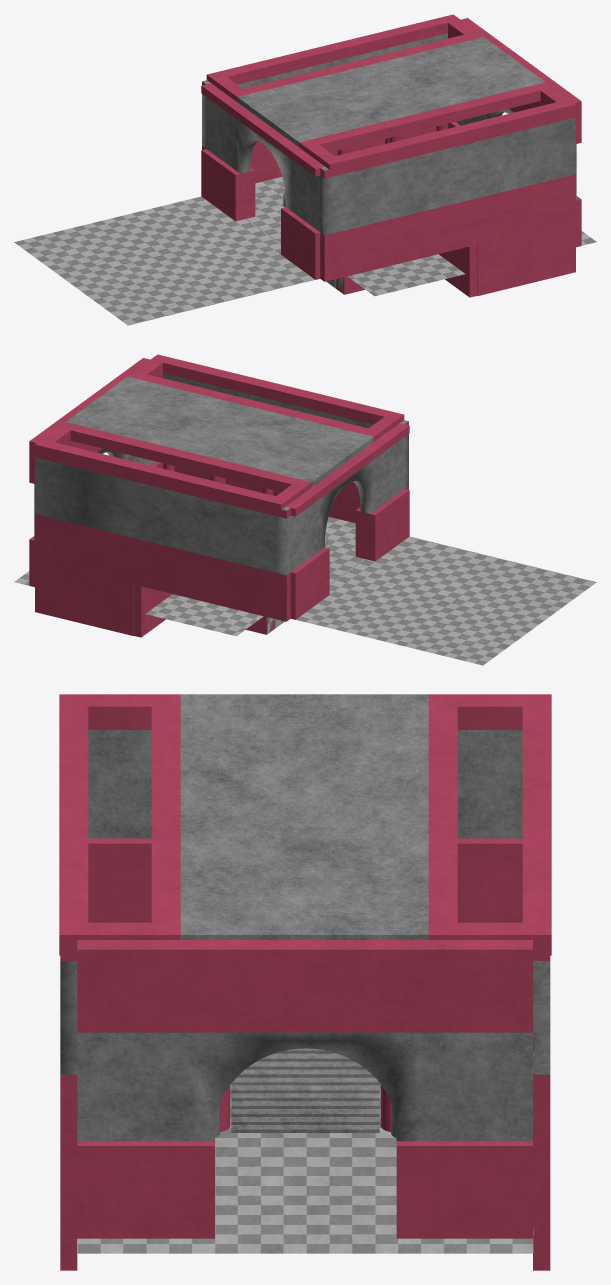
The model's file is concrete_temple.glb.
3 renders of one model, top to bottom at view 1: azimuth 30°, elevation 25°; view 2: azimuth 150°, elevation 25°; view 3: azimuth 270°, elevation 25°, orthographic. The views are drawn at different scales.
Visible parts, largest first — view 1: floor_top_2, redbits_21, concrete_walls.006_7, concrete_walls.002_5, redbits.011_32, redbits.015_36, concrete_walls.001_3, redbits.001_22, redbits.002_23, floor_bottom_1, floor_0, concrete_walls.004_6 (+2 smaller); view 2: floor_top_2, redbits.001_22, concrete_walls.006_7, concrete_walls.004_6, redbits.015_36, redbits.011_32, concrete_walls.001_3, redbits_21, redbits.002_23, floor_bottom_1, floor_0, redbits.003_24 (+2 smaller); view 3: concrete_walls.006_7, redbits.014_35, concrete_walls.019_20, floor_bottom_1, redbits.015_36, redbits.011_32, concrete_walls.001_3, redbits.012_33, redbits.013_34, concrete_stairs_4, redbits.001_22, redbits_21 (+3 smaller).
Boxes of the visible parts, box(x1,y1,x2,y2) form: floor_top_2: box(14, 196, 314, 325); redbits_21: box(281, 174, 575, 296); concrete_walls.006_7: box(237, 37, 545, 147); concrete_walls.002_5: box(320, 117, 575, 235); redbits.011_32: box(299, 82, 576, 174); redbits.015_36: box(206, 14, 483, 101); concrete_walls.001_3: box(206, 97, 320, 231); redbits.001_22: box(201, 123, 447, 221); redbits.002_23: box(201, 33, 575, 178); floor_bottom_1: box(347, 231, 596, 296); floor_0: box(246, 177, 343, 293); concrete_walls.004_6: box(202, 33, 447, 148); floor_top_2: box(296, 536, 596, 665); redbits.001_22: box(35, 514, 329, 635); concrete_walls.006_7: box(66, 376, 373, 486); concrete_walls.004_6: box(35, 457, 290, 575); redbits.015_36: box(34, 422, 311, 514); redbits.011_32: box(127, 354, 404, 441); concrete_walls.001_3: box(290, 437, 404, 571); redbits_21: box(163, 463, 409, 561); redbits.002_23: box(35, 421, 409, 518); floor_bottom_1: box(14, 571, 263, 636); floor_0: box(267, 517, 364, 633); redbits.003_24: box(134, 584, 274, 637); concrete_walls.006_7: box(180, 694, 428, 939); redbits.014_35: box(77, 940, 532, 1032); concrete_walls.019_20: box(77, 1032, 532, 1141); floor_bottom_1: box(77, 1083, 533, 1253); redbits.015_36: box(428, 694, 551, 955); redbits.011_32: box(59, 694, 180, 955); concrete_walls.001_3: box(88, 730, 522, 838); redbits.012_33: box(77, 1141, 214, 1238); redbits.013_34: box(396, 1141, 532, 1238); concrete_stairs_4: box(231, 1048, 379, 1132); redbits.001_22: box(457, 838, 550, 1270); redbits_21: box(60, 838, 151, 1270).
Size of the model in its own units: 19.02 by 6.6 by 8.64.
3 materials, 3 textured.
